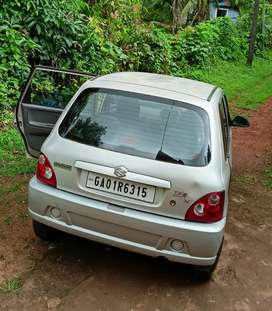GA01R6315: (86, 170, 157, 203)
